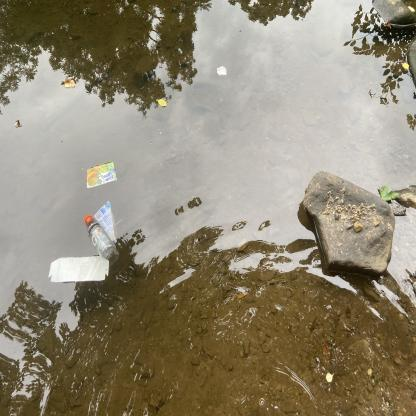trash: (44, 250, 113, 285), (82, 211, 120, 261), (93, 198, 119, 247), (84, 158, 118, 190)
